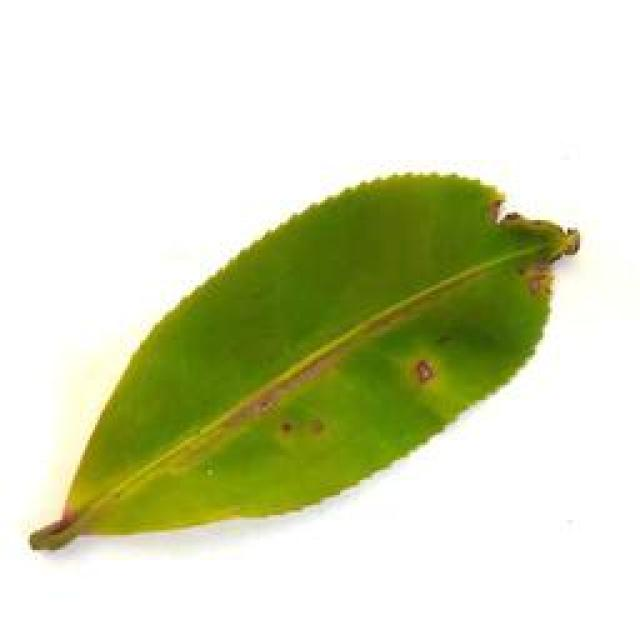Helopeltis: (22, 158, 590, 552)
